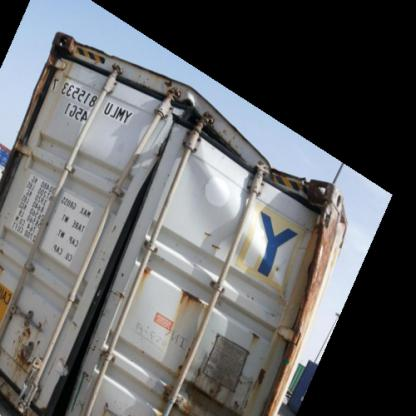Damage: (192, 123, 346, 291), (32, 26, 84, 116), (6, 306, 46, 386), (149, 338, 192, 408), (249, 330, 273, 397), (169, 292, 205, 308)
